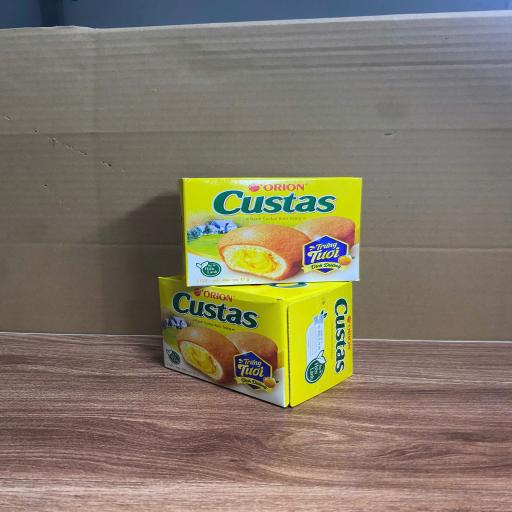custas: (158, 275, 354, 408), (158, 275, 353, 408), (177, 177, 362, 286), (178, 177, 362, 286)
